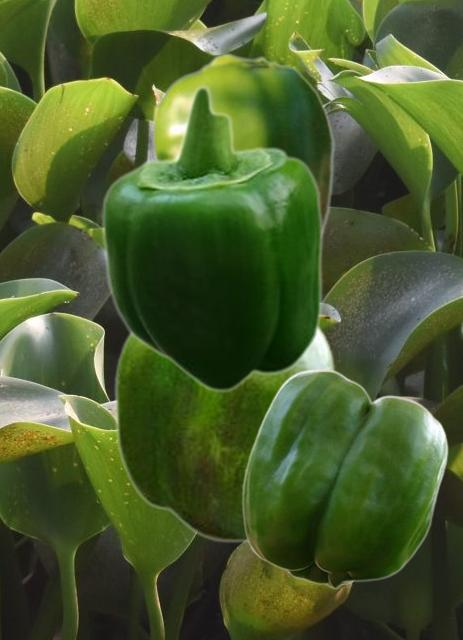bell_pepper: (100, 84, 323, 393), (113, 326, 335, 543), (241, 368, 447, 588), (151, 52, 334, 237)
